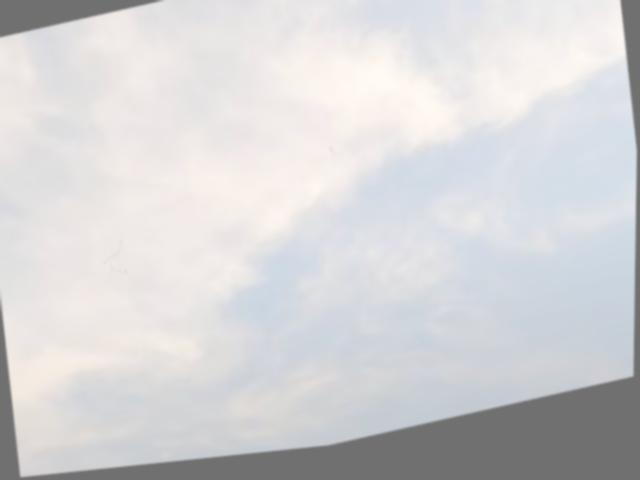iha: (328, 154, 334, 163)
